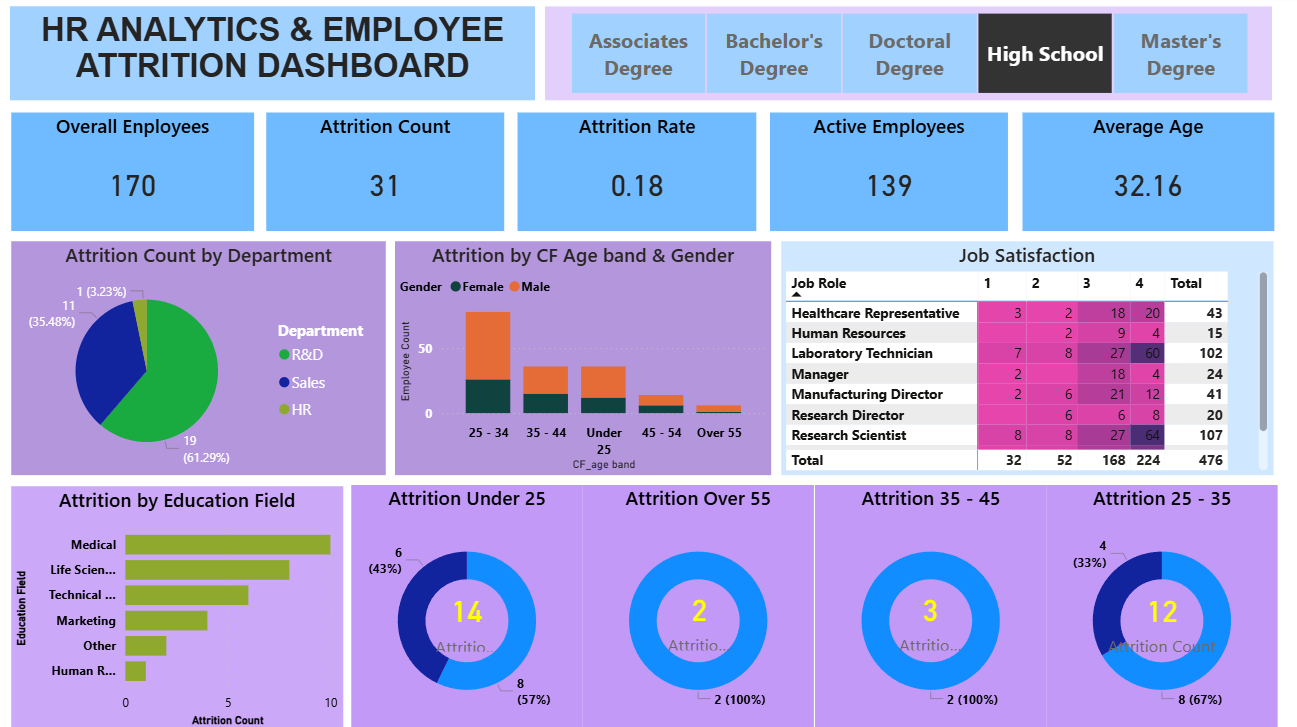

What the dashboard file says about the page in this screenshot:
{"tool":"powerbi","page":{"name":"Page 1","canvas":[1280,720],"ordinal":0},"visuals":[{"type":"card","title":"Overall Enployees","fields":{"Values":["Sum(HR Data xlsx - HR data.Employee Count)"]},"box":[15.7,114.6,237.6,115.8],"z":0},{"type":"card","title":"Attrition Count","fields":{"Values":["Sum(HR Data xlsx - HR data.Attrition Count)"]},"box":[265.3,114.6,232.8,115.8],"z":1000},{"type":"card","title":"Attrition Rate","fields":{"Values":["HR Data xlsx - HR data.Attrition Rate"]},"box":[511.4,114.6,234,115.8],"z":2000},{"type":"card","title":"Active Employees","fields":{"Values":["HR Data xlsx - HR data.Active Employees"]},"box":[758.6,114.6,232.8,115.8],"z":3000},{"type":"card","title":"Average Age","fields":{"Values":["Avg(HR Data xlsx - HR data.Age)"]},"box":[1004.6,114.6,246,115.8],"z":4000},{"type":"pieChart","fields":{"Y":["Sum(HR Data xlsx - HR data.Attrition Count)"],"Category":["HR Data xlsx - HR data.Department"]},"box":[15.7,241.2,366.6,229.1],"z":5000},{"type":"columnChart","title":"Attrition by CF Age band & Gender","fields":{"Category":["HR Data xlsx - HR data.CF_age band"],"Y":["Sum(HR Data xlsx - HR data.Employee Count)"],"Series":["HR Data xlsx - HR data.Gender"]},"box":[390.8,241.2,367.8,229.1],"z":6000},{"type":"pivotTable","title":"Job Satisfaction","fields":{"Rows":["HR Data xlsx - HR data.Job Role"],"Values":["Sum(HR Data xlsx - HR data.Job Satisfaction)"],"Columns":["HR Data xlsx - HR data.Job Satisfaction"]},"box":[769.4,241.2,481.2,229.1],"z":7000},{"type":"barChart","title":"Attrition by Education Field","fields":{"Category":["HR Data xlsx - HR data.Education Field"],"Y":["Sum(HR Data xlsx - HR data.Attrition Count)"]},"box":[15.7,480,324.4,240],"z":8000},{"type":"donutChart","title":"Attrition Under 25","fields":{"Y":["Sum(HR Data xlsx - HR data.Attrition Count)"],"Category":["HR Data xlsx - HR data.Gender"],"Series":["HR Data xlsx - HR data.CF_age band"]},"box":[348.5,478.8,226.7,241.2],"z":9000},{"type":"donutChart","title":"Attrition Over 55","fields":{"Y":["Sum(HR Data xlsx - HR data.Attrition Count)"],"Category":["HR Data xlsx - HR data.Gender"],"Series":["HR Data xlsx - HR data.CF_age band"]},"box":[575.3,478.8,226.7,241.2],"z":10000},{"type":"donutChart","title":"Attrition 35 - 45","fields":{"Y":["Sum(HR Data xlsx - HR data.Attrition Count)"],"Category":["HR Data xlsx - HR data.Gender"],"Series":["HR Data xlsx - HR data.CF_age band"]},"box":[802,478.8,226.7,241.2],"z":11000},{"type":"donutChart","title":"Attrition 25 - 35","fields":{"Y":["Sum(HR Data xlsx - HR data.Attrition Count)"],"Category":["HR Data xlsx - HR data.Gender"],"Series":["HR Data xlsx - HR data.CF_age band"]},"box":[1028.7,478.8,226.7,241.2],"z":12000},{"type":"card","fields":{"Values":["Sum(HR Data xlsx - HR data.Attrition Count)"]},"box":[421.6,578.2,79.7,68.7],"z":13000},{"type":"card","fields":{"Values":["Sum(HR Data xlsx - HR data.Attrition Count)"]},"box":[648.8,577.7,79.6,68.7],"z":14000},{"type":"card","fields":{"Values":["Sum(HR Data xlsx - HR data.Attrition Count)"]},"box":[875.6,577.7,79.6,68.7],"z":15000},{"type":"card","fields":{"Values":["Sum(HR Data xlsx - HR data.Attrition Count)"]},"box":[1083.6,571.3,116.7,82.4],"z":16000},{"type":"textbox","box":[15.1,11,513.6,92],"z":17000},{"type":"slicer","fields":{"Values":["HR Data xlsx - HR data.Education"]},"box":[538.4,11,711.4,92],"z":18000}]}

Visuals, with their boxes in screenshot pixels (x1, y1, x2, y2), scaled from the page's 1280x720 canvas onto the 1297x727 screenshot:
"Overall Enployees" card: 16, 116, 257, 233
"Attrition Count" card: 269, 116, 505, 233
"Attrition Rate" card: 518, 116, 755, 233
"Active Employees" card: 769, 116, 1005, 233
"Average Age" card: 1018, 116, 1267, 233
pieChart - Sum(HR Data xlsx - HR data.Attrition Count) x HR Data xlsx - HR data.Department: 16, 244, 387, 475
"Attrition by CF Age band & Gender" columnChart: 396, 244, 769, 475
"Job Satisfaction" pivotTable: 780, 244, 1267, 475
"Attrition by Education Field" barChart: 16, 485, 345, 726
"Attrition Under 25" donutChart: 353, 483, 583, 726
"Attrition Over 55" donutChart: 583, 483, 813, 726
"Attrition 35 - 45" donutChart: 813, 483, 1042, 726
"Attrition 25 - 35" donutChart: 1042, 483, 1272, 726
card - Sum(HR Data xlsx - HR data.Attrition Count): 427, 584, 508, 653
card - Sum(HR Data xlsx - HR data.Attrition Count): 657, 583, 738, 653
card - Sum(HR Data xlsx - HR data.Attrition Count): 887, 583, 968, 653
card - Sum(HR Data xlsx - HR data.Attrition Count): 1098, 577, 1216, 660
textbox: 15, 11, 536, 104
slicer - HR Data xlsx - HR data.Education: 546, 11, 1266, 104
